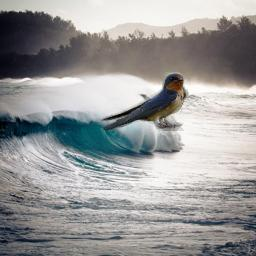Swallow: (86, 72, 189, 131)
